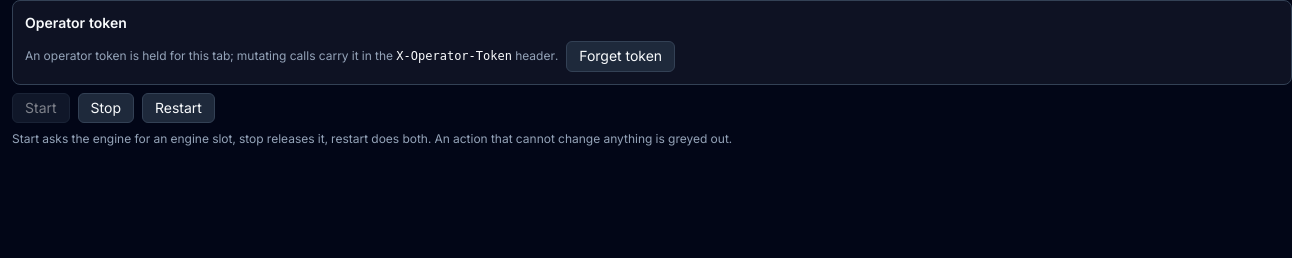
ProfileControls › surfaces a network failure instead of throwing
Step 1. Click the button "Stop" → coordinates (106, 108), box [78,93,134,123]
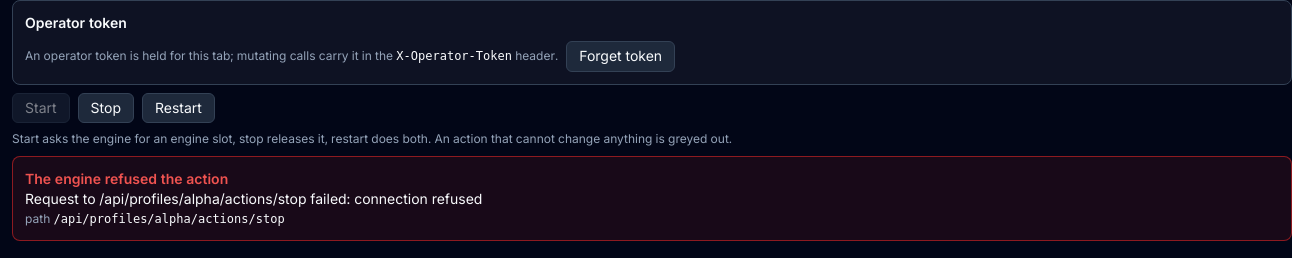
Expected: the text "connection refused" is shown, [25,190,482,207]
